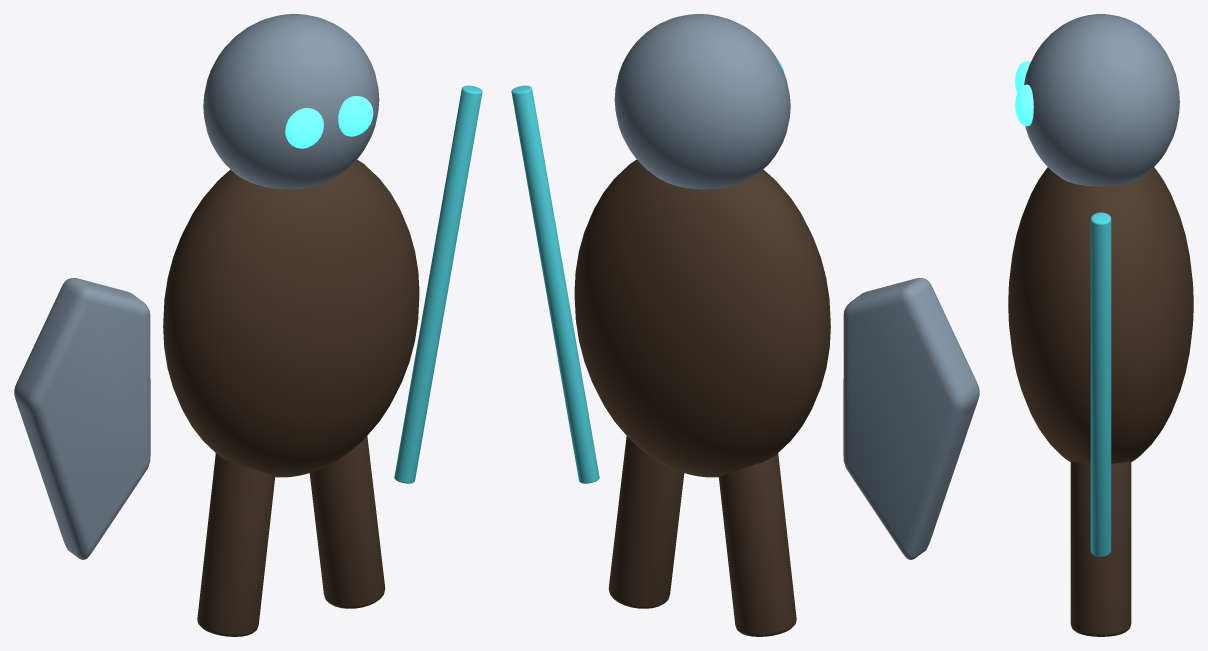
Rendered from undead_v3.glb.
3 views of the same model, side by side, from view 1: azimuth 30°, elevation 25°; view 2: azimuth 150°, elevation 25°; view 3: azimuth 270°, elevation 25° (orthographic). The views are drawn at different scales.
Visible parts, largest first — view 1: REVENANT_BODY_SECONDARY, BROKEN_SHIELD_PRIMARY, BROKEN_HELM_PRIMARY, REVENANT_LEG_SECONDARY, REVENANT_LEG_SECONDARY.001, BROKEN_SPEAR_ACCENT, EYE_EMISSIVE, EYE_EMISSIVE.001; view 2: REVENANT_BODY_SECONDARY, BROKEN_SHIELD_PRIMARY, BROKEN_HELM_PRIMARY, REVENANT_LEG_SECONDARY, REVENANT_LEG_SECONDARY.001, BROKEN_SPEAR_ACCENT; view 3: REVENANT_BODY_SECONDARY, BROKEN_HELM_PRIMARY, REVENANT_LEG_SECONDARY.001, BROKEN_SPEAR_ACCENT, EYE_EMISSIVE.001, EYE_EMISSIVE.
Part boxes in pixels (bbox=[...]): REVENANT_BODY_SECONDARY: bbox=[163, 159, 419, 477]; BROKEN_SHIELD_PRIMARY: bbox=[14, 278, 150, 559]; BROKEN_HELM_PRIMARY: bbox=[203, 14, 379, 189]; REVENANT_LEG_SECONDARY: bbox=[197, 453, 274, 636]; REVENANT_LEG_SECONDARY.001: bbox=[309, 436, 385, 608]; BROKEN_SPEAR_ACCENT: bbox=[394, 85, 482, 483]; EYE_EMISSIVE: bbox=[285, 108, 323, 148]; EYE_EMISSIVE.001: bbox=[338, 96, 373, 136]; REVENANT_BODY_SECONDARY: bbox=[574, 159, 830, 477]; BROKEN_SHIELD_PRIMARY: bbox=[843, 278, 979, 559]; BROKEN_HELM_PRIMARY: bbox=[614, 14, 790, 189]; REVENANT_LEG_SECONDARY: bbox=[719, 453, 796, 636]; REVENANT_LEG_SECONDARY.001: bbox=[608, 436, 684, 608]; BROKEN_SPEAR_ACCENT: bbox=[511, 85, 599, 483]; REVENANT_BODY_SECONDARY: bbox=[1008, 167, 1193, 463]; BROKEN_HELM_PRIMARY: bbox=[1024, 14, 1179, 186]; REVENANT_LEG_SECONDARY.001: bbox=[1070, 461, 1131, 636]; BROKEN_SPEAR_ACCENT: bbox=[1090, 212, 1111, 556]; EYE_EMISSIVE.001: bbox=[1015, 84, 1033, 126]; EYE_EMISSIVE: bbox=[1015, 61, 1030, 93].
Size of the model in its own units: 2.23 by 2.75 by 0.8.
